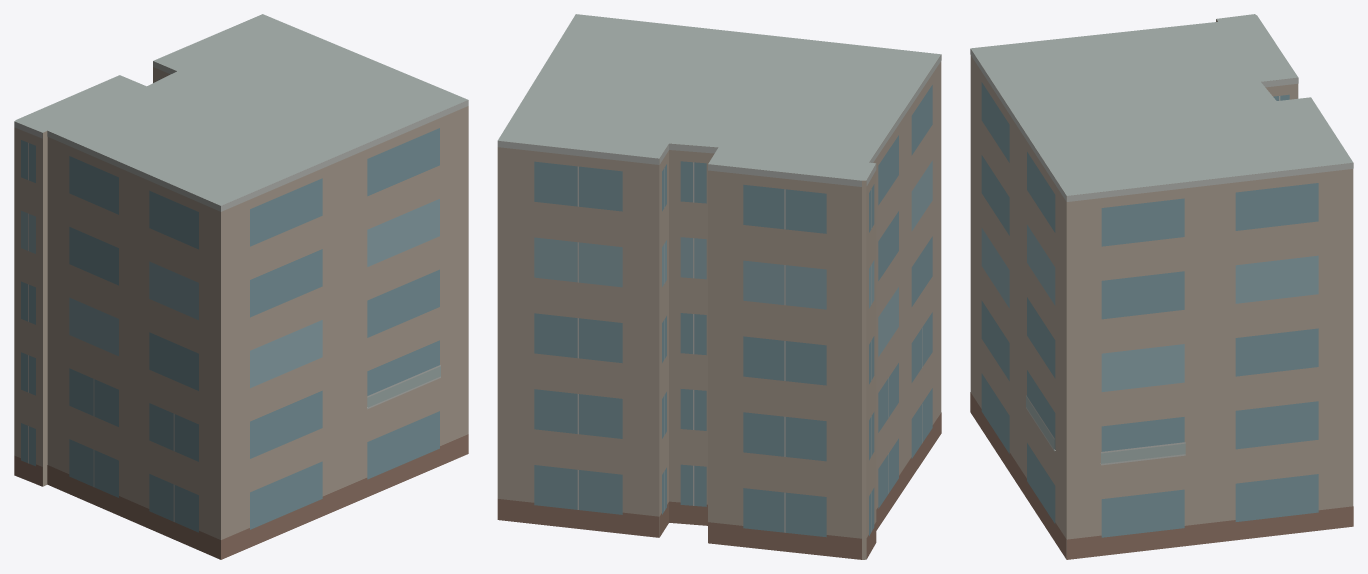
The model's file is survey-upis-33045558.glb.
3 views of the same model, side by side, from view 1: azimuth 30°, elevation 25°; view 2: azimuth 150°, elevation 25°; view 3: azimuth 270°, elevation 25° (orthographic). The views are drawn at different scales.
Parts seen in each view (by area): view 1: survey-upis-33045558.tmp; view 2: survey-upis-33045558.tmp; view 3: survey-upis-33045558.tmp.
Boxes of the visible parts, bbox=[...] form: survey-upis-33045558.tmp: bbox=[14, 14, 468, 559]; survey-upis-33045558.tmp: bbox=[497, 14, 941, 559]; survey-upis-33045558.tmp: bbox=[970, 14, 1353, 559].
Bounding box in the file's own units: 15.56 × 14.5 × 13.84.
